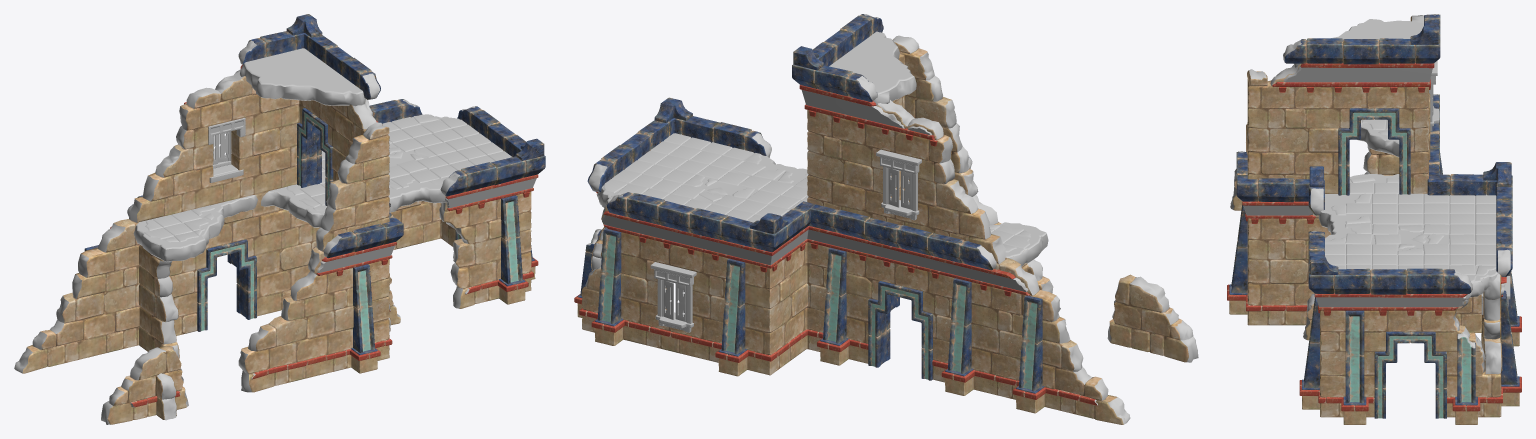
The picture shows the model from 3 angles, left to right: view 1: azimuth 30°, elevation 25°; view 2: azimuth 150°, elevation 25°; view 3: azimuth 270°, elevation 25°; orthographic projection. The views are drawn at different scales.
Visible parts, largest first — view 1: SM_Menaphite_Ruins_06_LOD0; view 2: SM_Menaphite_Ruins_06_LOD0; view 3: SM_Menaphite_Ruins_06_LOD0.
Boxes of the visible parts, x1,y1,x2,y2 form: SM_Menaphite_Ruins_06_LOD0: [14, 14, 545, 424]; SM_Menaphite_Ruins_06_LOD0: [574, 14, 1198, 424]; SM_Menaphite_Ruins_06_LOD0: [1227, 14, 1521, 424].
Bounding box in the file's own units: 33.2 × 18.14 × 16.27.
